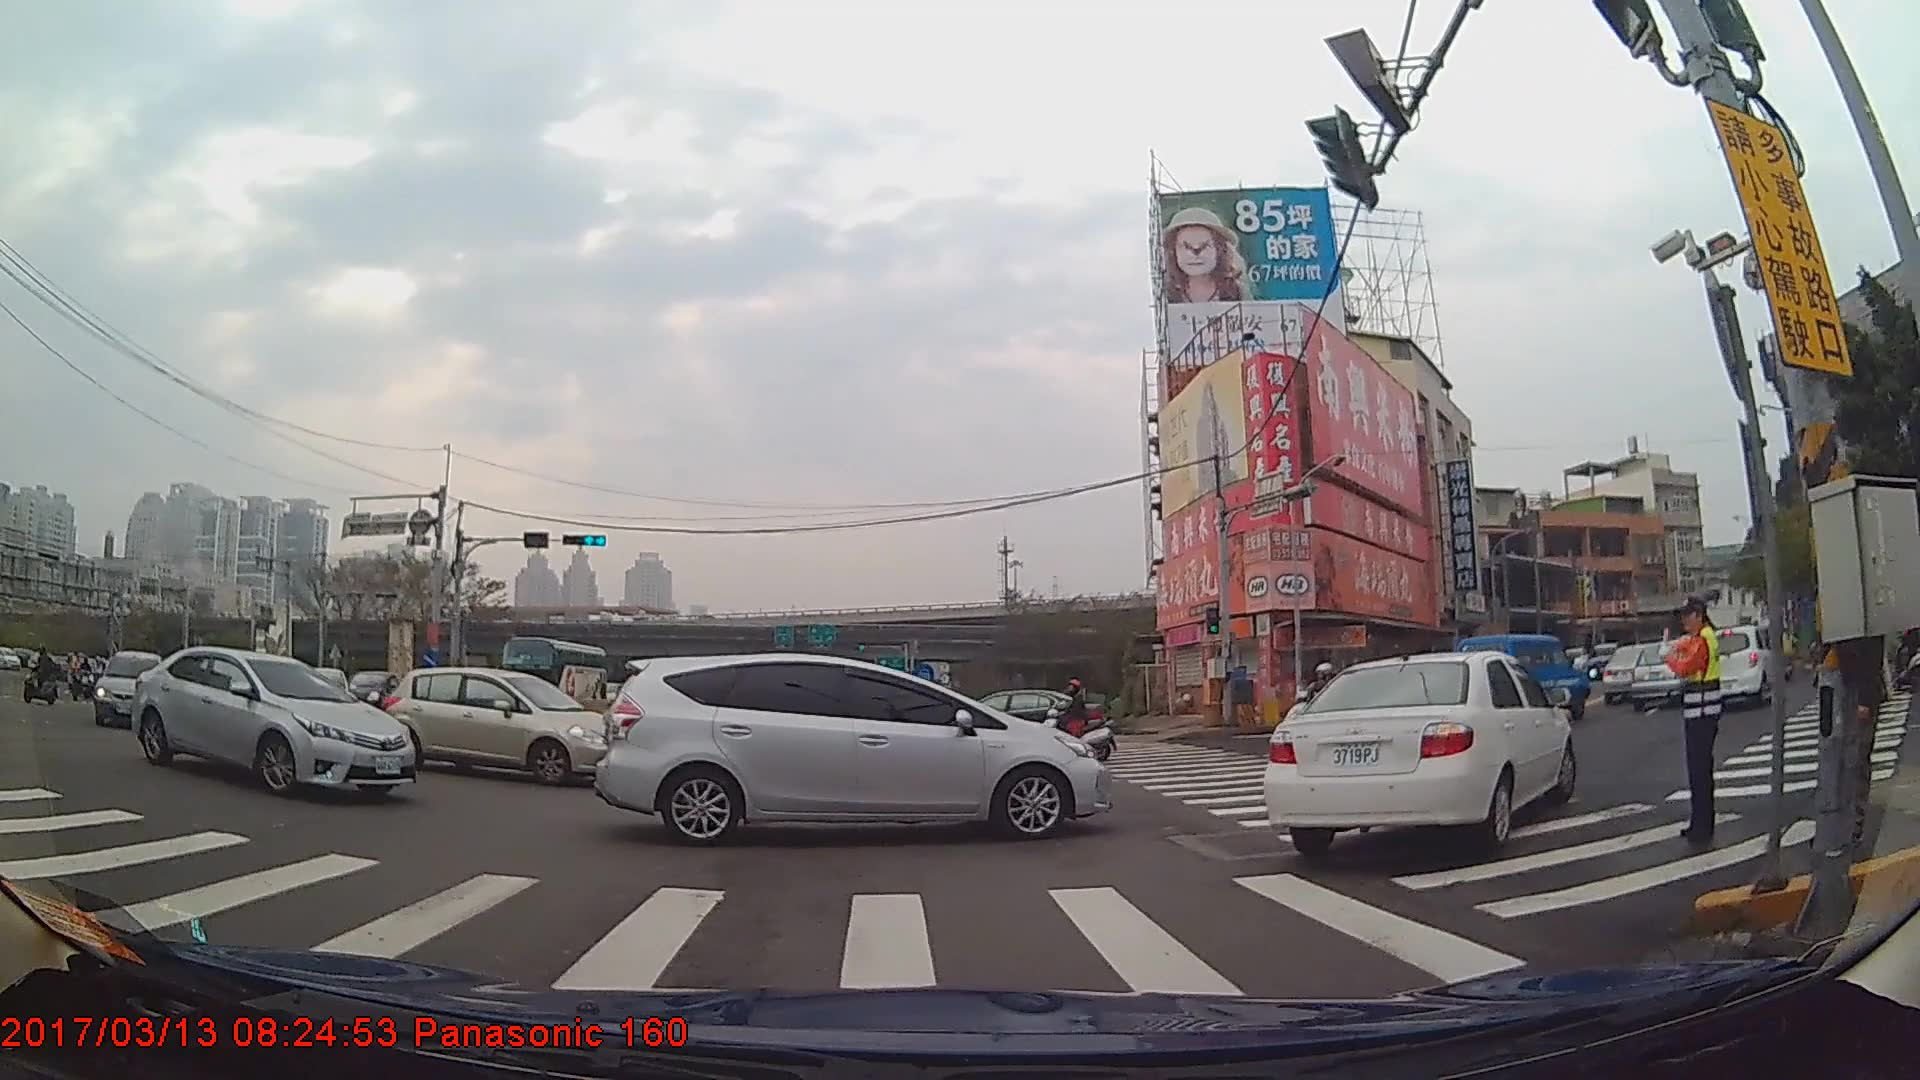pedestrian: (1809, 532, 1896, 850), (1660, 595, 1723, 852)
rider: (1030, 681, 1118, 763), (1812, 613, 1836, 689)
vehicle: (587, 648, 1110, 844), (1255, 645, 1579, 862), (125, 645, 416, 801), (374, 665, 618, 787), (1455, 633, 1589, 721), (493, 633, 603, 715), (1694, 622, 1784, 709), (91, 651, 168, 723), (1625, 638, 1695, 713), (1598, 644, 1671, 705)
